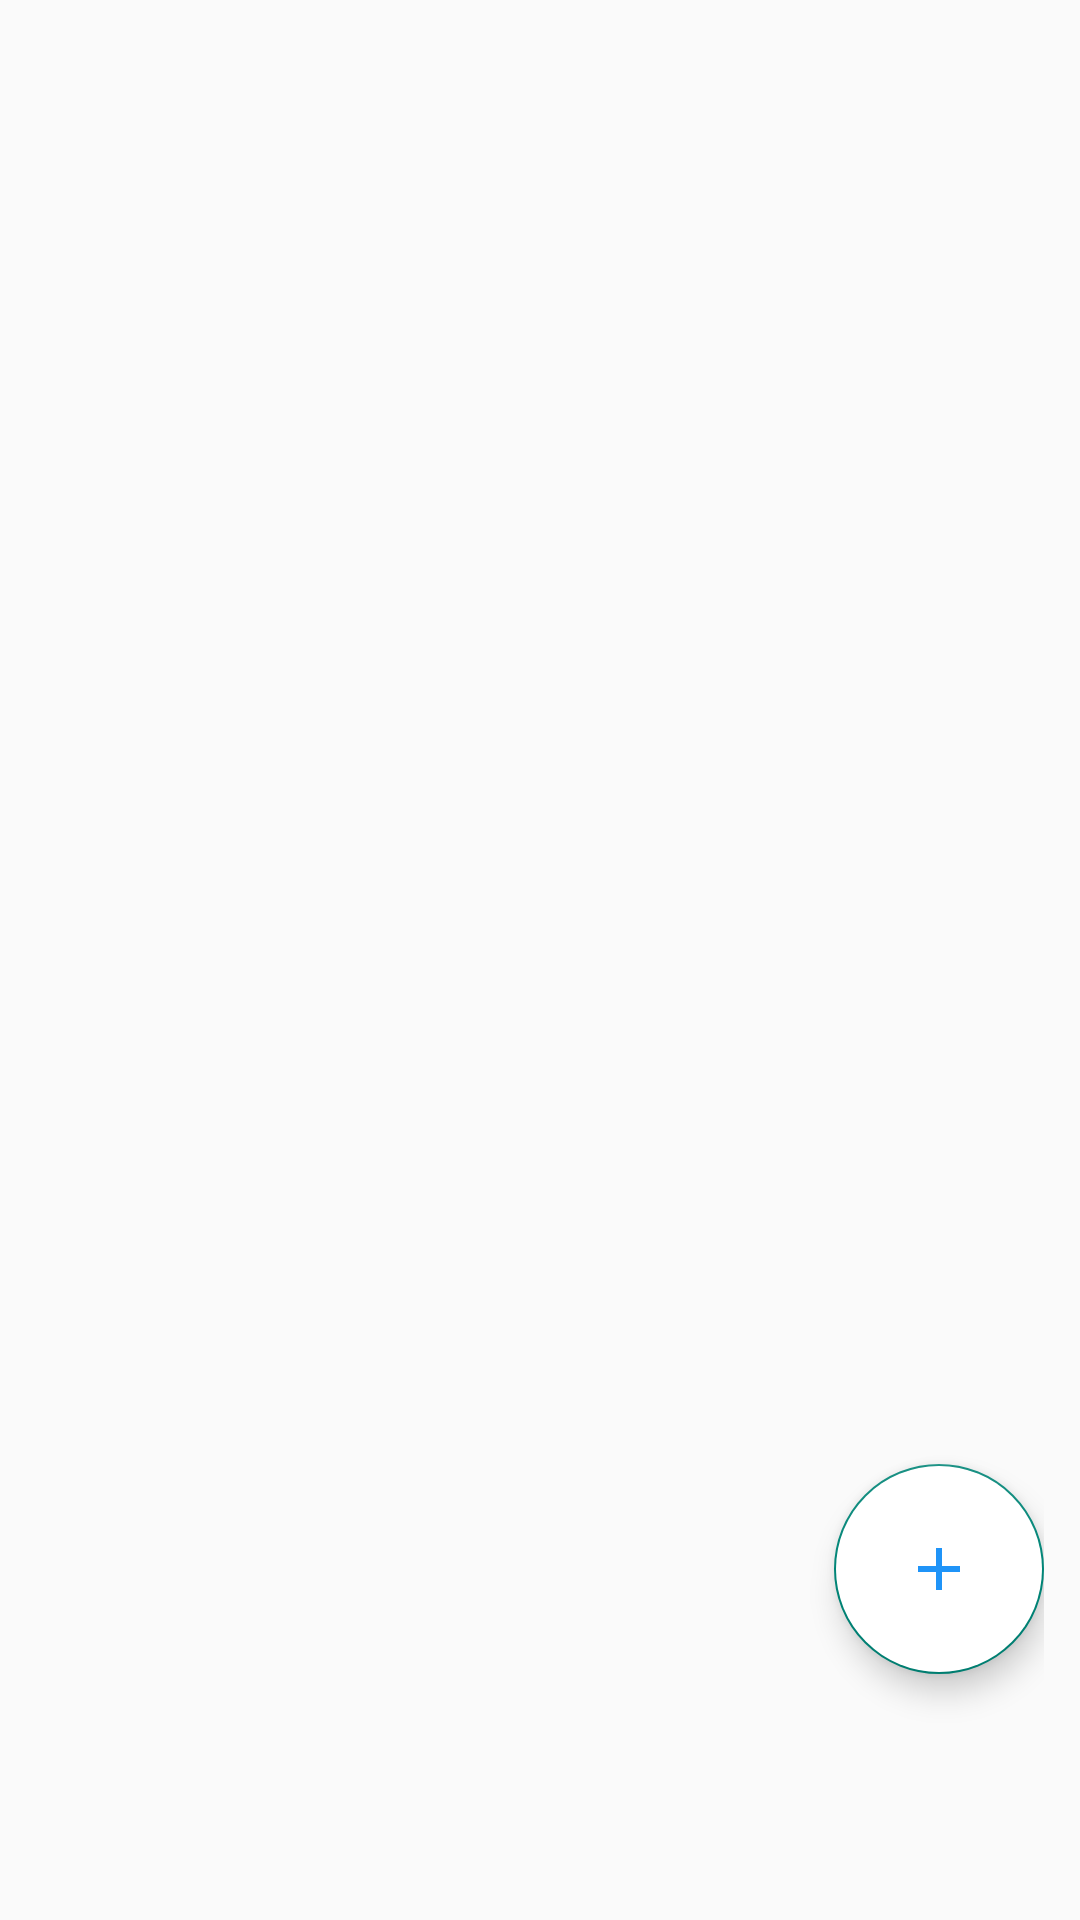

Icon bounding boxes for this 1080 × 1920 phone screenshot, format [x1=x1, y1=y1, x2=x2, y2=y2]:
add: [x1=834, y1=1464, x2=1044, y2=1674]
